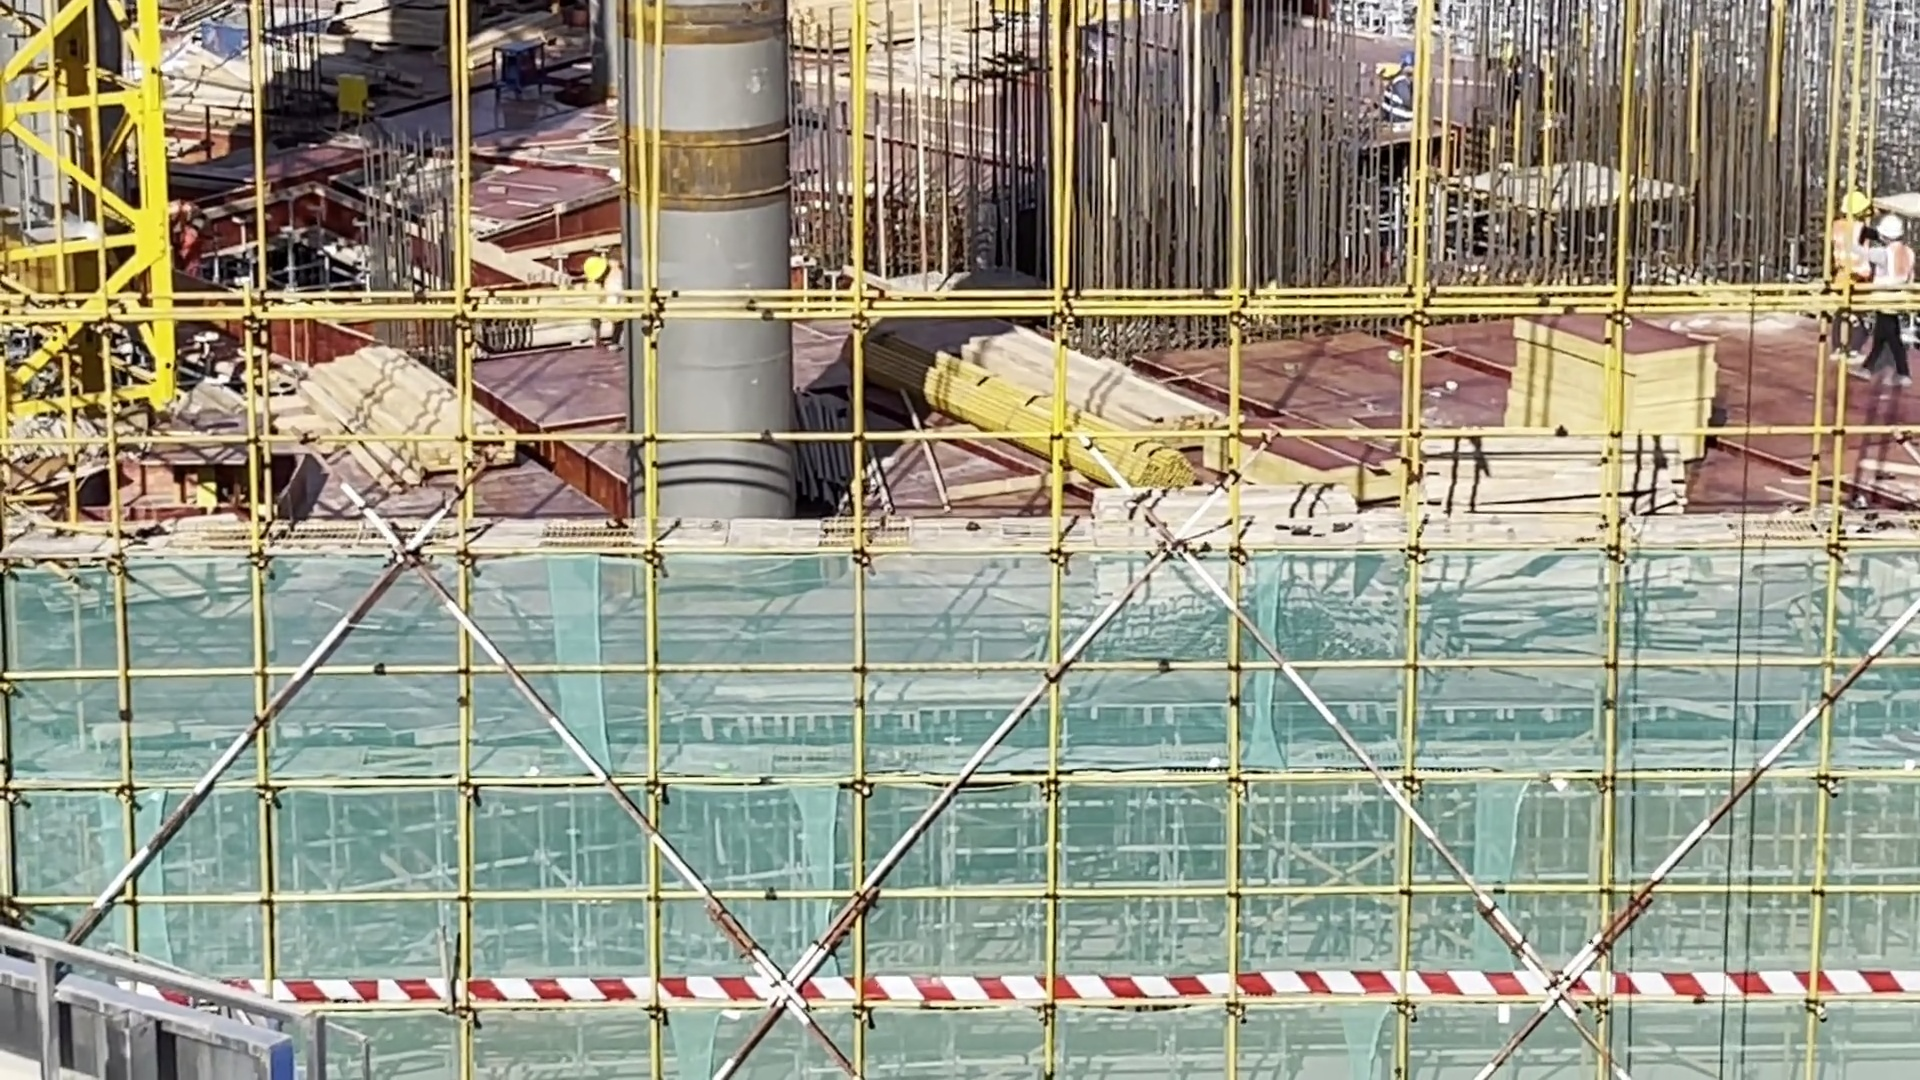board: (1506, 334, 1714, 489)
cutter: (116, 386, 268, 524)
ebox: (338, 82, 371, 124), (211, 467, 224, 526)
helmet: (588, 248, 611, 279), (1883, 219, 1908, 246), (1398, 51, 1428, 72), (1506, 44, 1528, 64), (1843, 196, 1866, 212)
person: (1876, 200, 1914, 371), (1828, 198, 1863, 326), (1501, 21, 1546, 118), (588, 250, 629, 356), (1396, 41, 1431, 136), (169, 193, 208, 260)
vest: (1517, 61, 1566, 98), (1837, 218, 1861, 276), (1390, 74, 1418, 117), (1878, 243, 1898, 298), (183, 204, 203, 243), (610, 278, 625, 317)
wood: (919, 289, 1241, 446), (326, 349, 483, 467), (819, 1, 1006, 49)
